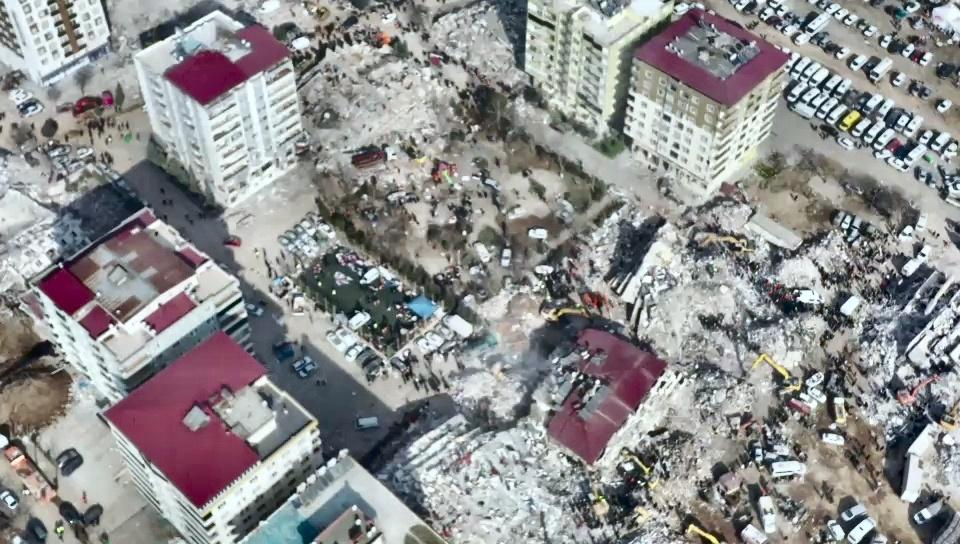kapali: (346, 380, 713, 543), (278, 0, 528, 214)
